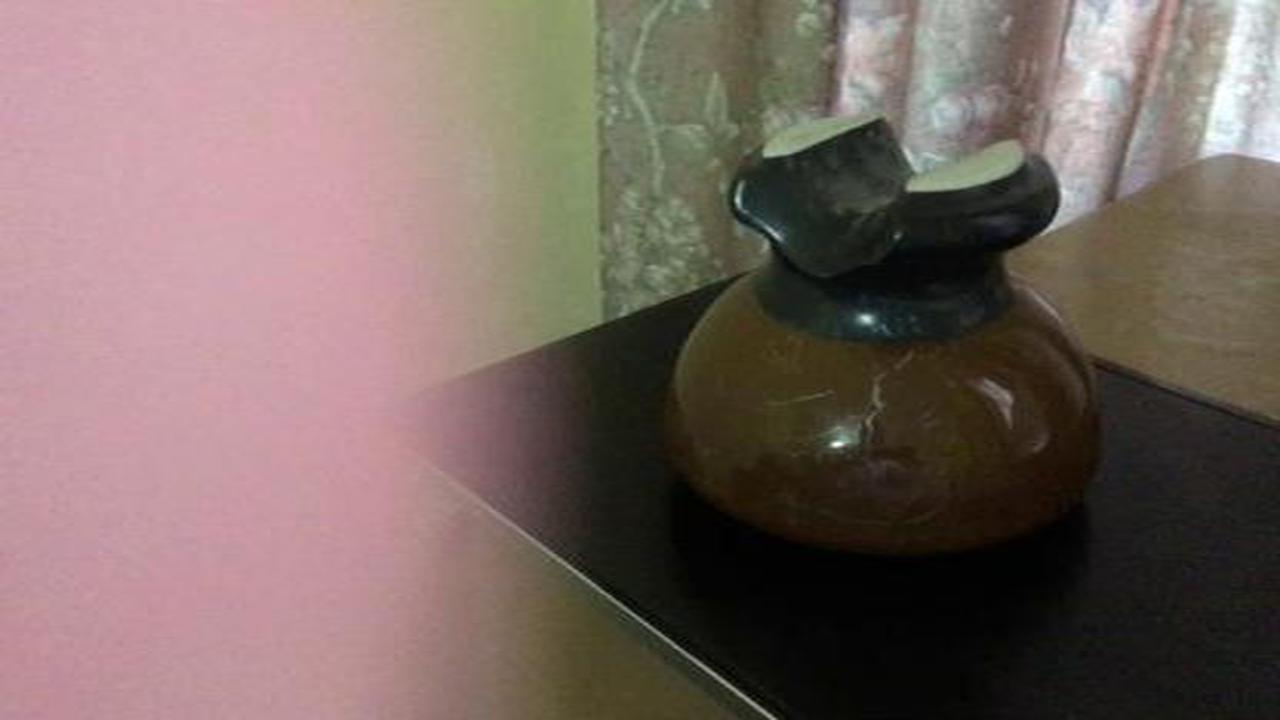insulator_pin: (653, 91, 1111, 577)
